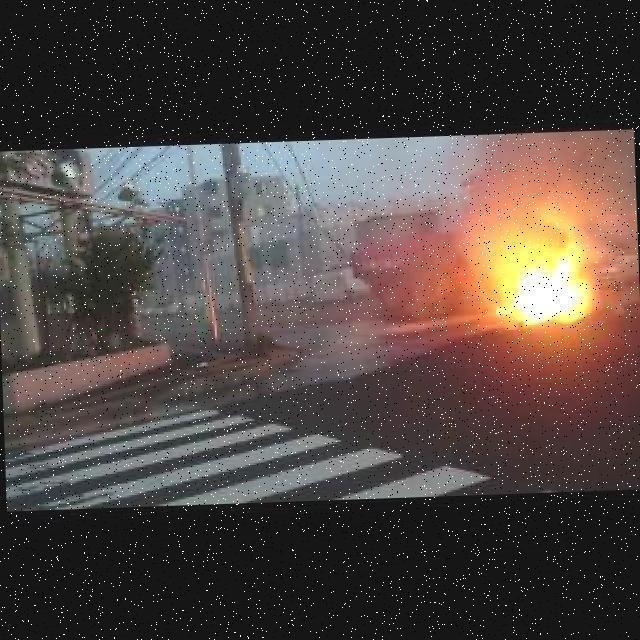Fire: (492, 252, 598, 328)
Smoke: (480, 127, 636, 260)
